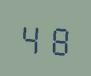eight: (45, 20, 70, 57)
four: (19, 18, 44, 55)
